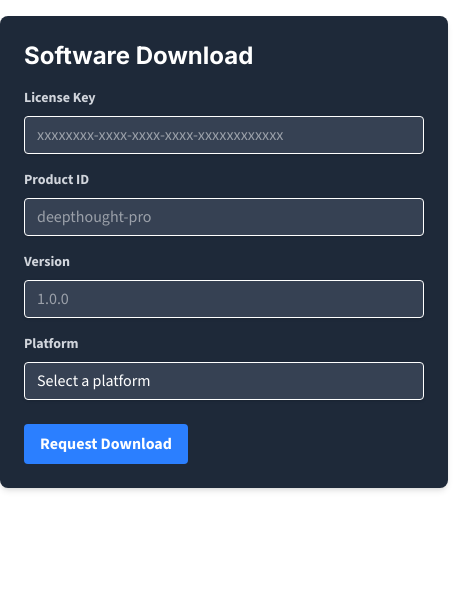
DownloadRequestForm › displays an error message when the request fails
Type "ineligible-key" into the field labelled "License Key" at (224, 135), box x1=24 y1=116 x2=424 y2=154
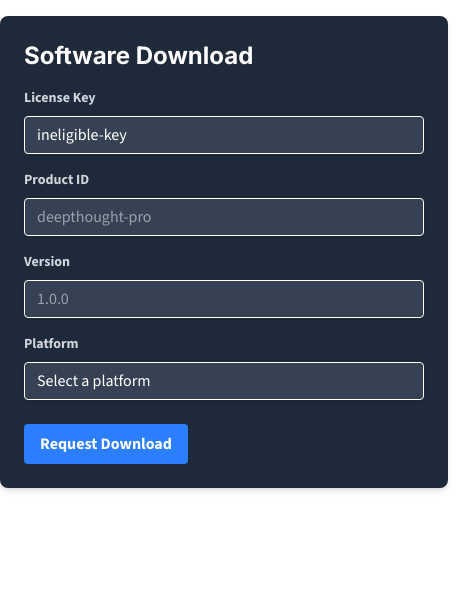
Type "prod-1" into the field labelled "Product ID" at (224, 217), box x1=24 y1=198 x2=424 y2=236
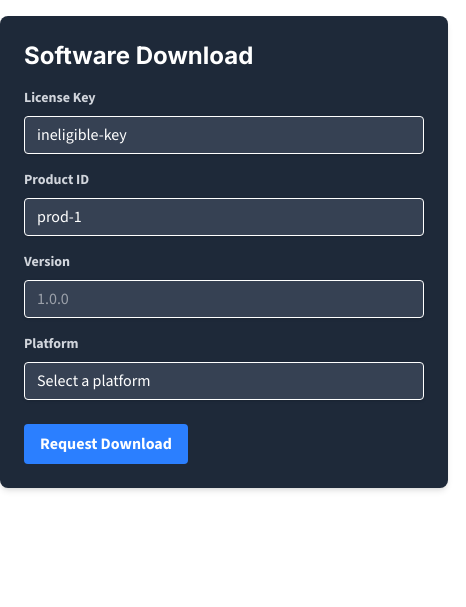
Type "1.0" into the field labelled "Version" at (224, 299), box x1=24 y1=280 x2=424 y2=318
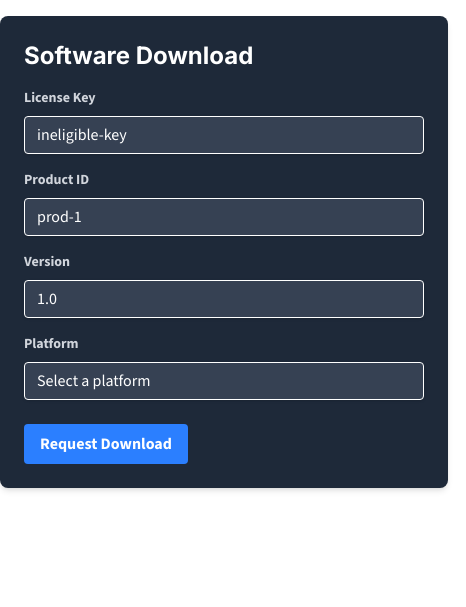
Select "Windows" in the dropdown labelled "Platform" at (224, 381), box x1=24 y1=362 x2=424 y2=400
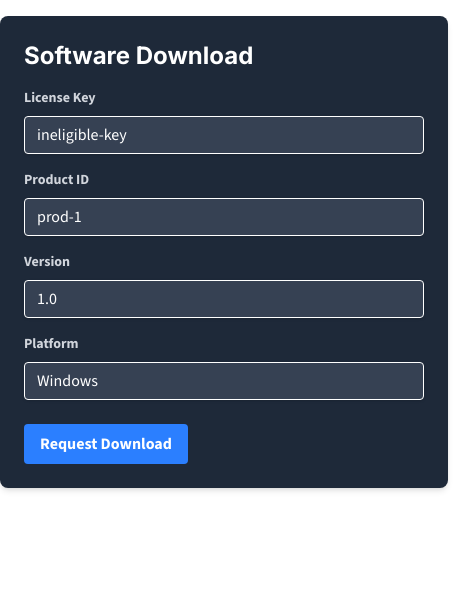
Click the button "Request Download" at (106, 444), box x1=24 y1=424 x2=188 y2=464
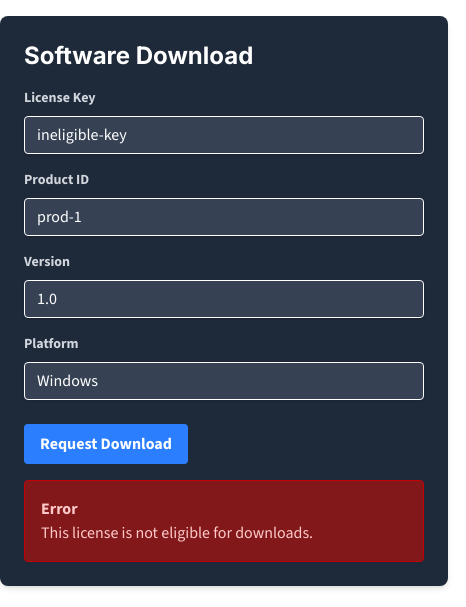
Check: the element with test id "error-message" is shown, box x1=24 y1=480 x2=424 y2=562
Check: the text "This license is not eligible for downloads." is shown, box x1=41 y1=522 x2=313 y2=543
